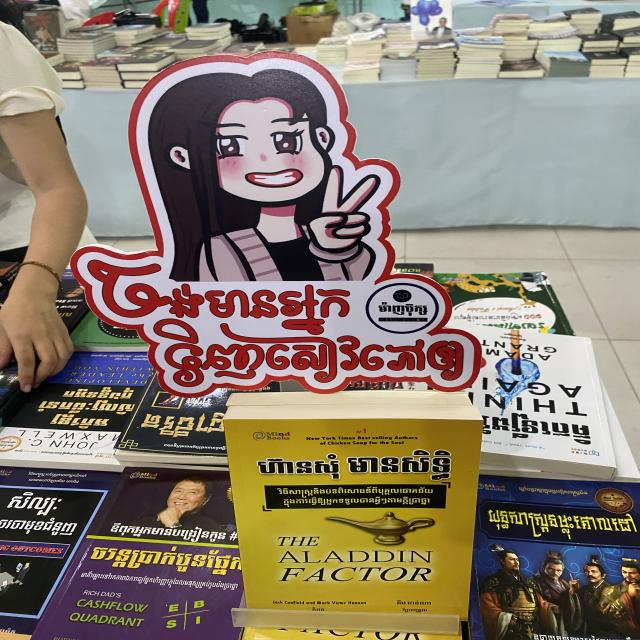1: (28, 477, 81, 485), (393, 597, 435, 607)
503: (361, 426, 368, 436)
Yolov11kh: (81, 252, 358, 339), (146, 316, 467, 391), (82, 539, 245, 579), (483, 505, 637, 545), (76, 566, 239, 594), (343, 446, 458, 485), (106, 519, 233, 545), (249, 450, 348, 483), (1, 486, 74, 518), (3, 513, 87, 540), (279, 496, 434, 509), (272, 485, 434, 497), (375, 298, 430, 317), (517, 485, 590, 498), (27, 470, 88, 480), (401, 605, 434, 615)
